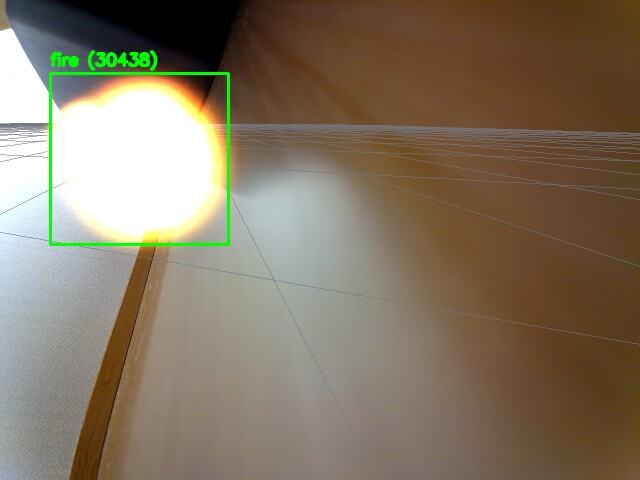fire: (50, 73, 228, 244)
